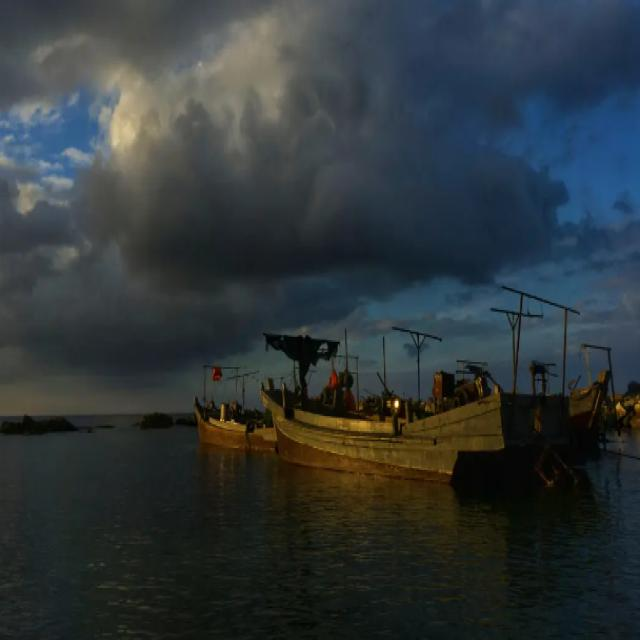fishing boat: (255, 331, 571, 479), (195, 359, 282, 451)
